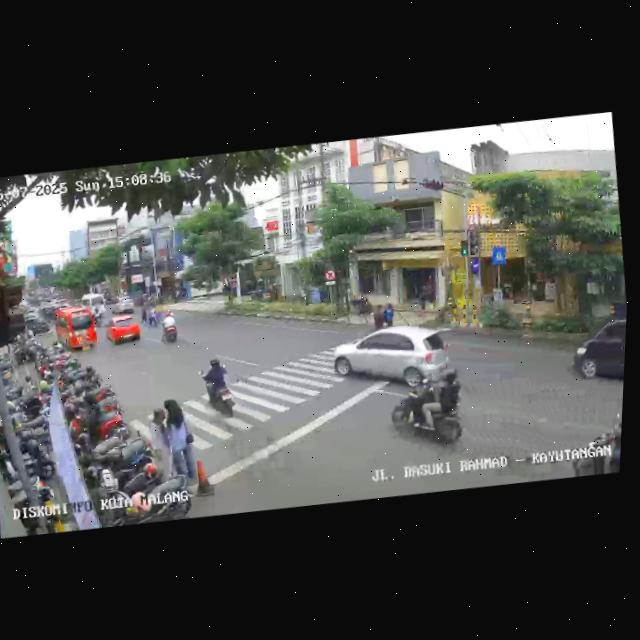car: (328, 321, 442, 396), (567, 316, 626, 392), (50, 303, 100, 356), (103, 314, 143, 347), (112, 296, 138, 318)
motorcycle: (389, 364, 471, 453), (583, 401, 623, 474), (197, 353, 239, 416), (157, 311, 181, 345), (143, 300, 158, 325)
person: (158, 395, 202, 486), (145, 404, 175, 481), (380, 303, 398, 329), (372, 302, 386, 329)
